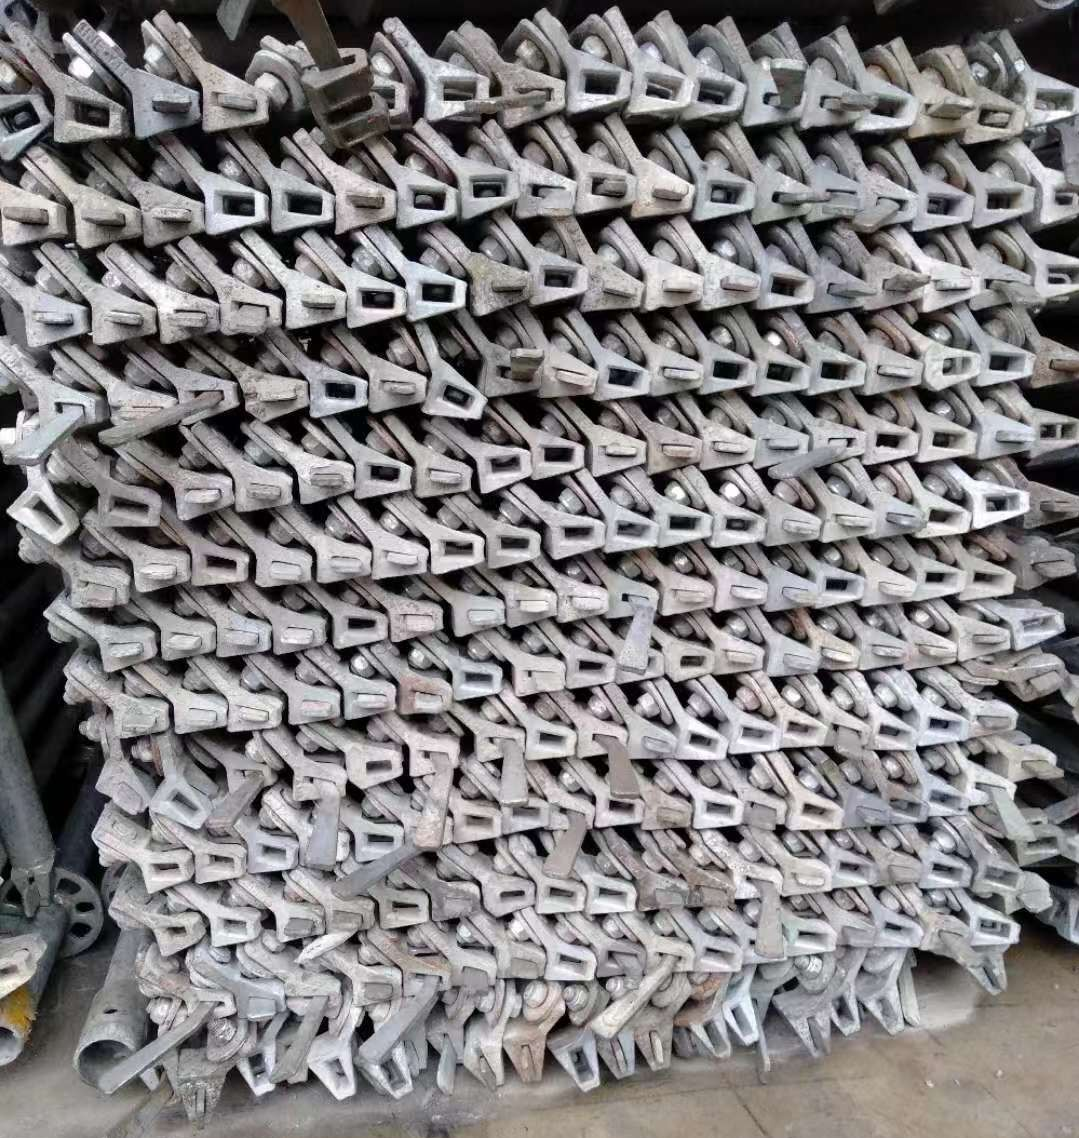circle_steel: (71, 1030, 139, 1092)
sigma_steel: (48, 85, 125, 148), (419, 61, 490, 126), (6, 487, 78, 547), (629, 59, 692, 122), (202, 183, 270, 239), (393, 177, 461, 232), (563, 62, 631, 115), (271, 182, 336, 236), (857, 79, 918, 137), (147, 772, 207, 830), (974, 177, 1035, 233), (1, 93, 48, 165), (691, 169, 756, 221), (345, 277, 408, 330), (425, 370, 488, 423), (690, 65, 747, 122), (969, 482, 1032, 534), (552, 1030, 602, 1094), (458, 168, 518, 222), (407, 272, 470, 323), (471, 442, 531, 494), (914, 184, 974, 235), (529, 256, 590, 306), (95, 483, 162, 528), (708, 500, 765, 554), (307, 1042, 358, 1101), (545, 512, 605, 561), (1024, 408, 1079, 461), (427, 528, 486, 578), (1024, 76, 1079, 129), (921, 341, 978, 392), (917, 420, 977, 468), (483, 521, 543, 569), (308, 372, 369, 419), (757, 264, 814, 312), (527, 434, 585, 483), (1028, 250, 1079, 304), (653, 501, 711, 549), (599, 354, 652, 406), (700, 348, 756, 397), (920, 492, 972, 544), (808, 350, 865, 397), (1006, 608, 1065, 652), (604, 508, 660, 555), (979, 342, 1035, 387), (332, 604, 388, 650), (686, 1008, 733, 1062), (353, 452, 410, 497), (860, 979, 905, 1036), (368, 1047, 414, 1100), (190, 547, 249, 587), (346, 746, 403, 789), (864, 423, 920, 466), (724, 991, 767, 1047), (236, 1041, 279, 1096), (756, 354, 808, 399), (142, 849, 195, 894), (192, 844, 250, 883), (783, 796, 845, 833), (247, 833, 299, 876), (1013, 828, 1065, 871), (968, 908, 1021, 950), (562, 651, 617, 692), (153, 914, 205, 956), (1039, 171, 1079, 226), (352, 825, 408, 863), (370, 75, 411, 127), (963, 561, 1015, 601), (479, 877, 534, 915), (541, 947, 597, 984), (919, 854, 972, 893), (915, 707, 968, 744), (677, 725, 729, 764), (668, 639, 715, 682), (813, 568, 864, 607), (914, 564, 964, 602), (210, 909, 261, 947), (695, 937, 746, 975), (597, 792, 645, 833), (526, 722, 579, 759), (825, 986, 862, 1039), (863, 715, 915, 752), (828, 852, 876, 891), (778, 713, 828, 751), (728, 718, 779, 755), (538, 878, 585, 918), (455, 807, 503, 846), (584, 878, 636, 914), (695, 794, 743, 832), (382, 891, 431, 928), (883, 785, 928, 826), (786, 921, 835, 957), (926, 780, 970, 820), (972, 857, 1021, 893), (872, 915, 922, 950), (452, 664, 504, 698), (503, 797, 548, 836)
sigma_steel_blocked: (125, 76, 200, 142), (196, 71, 268, 139), (498, 72, 569, 134), (742, 69, 806, 128), (69, 198, 140, 250), (1, 192, 65, 247), (643, 259, 705, 314), (479, 347, 542, 402), (364, 366, 427, 420), (242, 371, 310, 421), (21, 298, 90, 347), (807, 73, 862, 133), (143, 193, 204, 246), (91, 298, 158, 347), (281, 286, 348, 335), (464, 269, 533, 315), (157, 291, 219, 343), (868, 257, 924, 312), (635, 168, 693, 222), (169, 472, 231, 521), (293, 459, 355, 509), (177, 377, 241, 425), (336, 180, 395, 230), (175, 1065, 225, 1126), (99, 627, 161, 675), (38, 390, 103, 436), (919, 86, 970, 144), (817, 263, 870, 318), (864, 350, 922, 401), (577, 165, 636, 215), (128, 551, 192, 596), (706, 263, 763, 313), (1018, 543, 1076, 592), (221, 291, 284, 337), (585, 269, 647, 314), (518, 170, 576, 219), (445, 594, 506, 640), (539, 355, 599, 401), (1027, 480, 1079, 532), (925, 264, 979, 314), (952, 619, 1013, 663), (784, 1002, 832, 1059), (412, 456, 474, 500), (860, 176, 914, 226), (389, 598, 445, 646), (70, 565, 131, 609), (97, 766, 149, 816), (969, 94, 1022, 144), (271, 611, 328, 656), (700, 429, 757, 475), (764, 505, 821, 550), (371, 536, 429, 580), (811, 171, 861, 223), (1011, 657, 1069, 701), (233, 472, 291, 515), (976, 265, 1029, 311), (107, 705, 172, 743), (590, 432, 646, 477), (139, 1050, 183, 1107), (762, 171, 811, 221), (870, 498, 922, 546), (505, 1027, 547, 1086), (288, 976, 343, 1020), (754, 429, 811, 472), (463, 1034, 505, 1091), (636, 870, 692, 913), (855, 629, 908, 673), (160, 622, 218, 662), (213, 620, 275, 657), (506, 584, 558, 629), (256, 549, 315, 587), (977, 419, 1033, 459), (296, 759, 349, 802), (1031, 342, 1079, 389), (908, 628, 957, 673), (646, 434, 702, 475), (472, 723, 528, 763), (410, 737, 463, 779), (658, 575, 714, 615), (315, 546, 368, 587), (289, 689, 343, 729), (863, 571, 917, 612), (811, 422, 865, 463), (170, 699, 228, 736), (513, 656, 568, 696), (820, 504, 875, 544), (710, 636, 763, 677), (765, 572, 817, 613), (346, 683, 400, 722), (715, 572, 767, 613), (225, 698, 284, 733), (767, 637, 819, 677), (271, 905, 328, 941), (496, 943, 546, 985), (617, 647, 665, 689), (641, 794, 695, 832), (639, 1020, 678, 1071), (431, 882, 482, 922), (225, 759, 277, 797), (969, 950, 1011, 998), (781, 854, 829, 896), (843, 790, 890, 832), (561, 584, 608, 626), (627, 727, 682, 763), (597, 941, 648, 980), (688, 872, 738, 911), (402, 675, 452, 714), (927, 912, 969, 957), (657, 354, 703, 397), (450, 951, 500, 990), (1006, 744, 1056, 783), (325, 898, 376, 934), (968, 701, 1017, 739), (599, 1028, 636, 1079), (610, 578, 657, 618), (872, 849, 920, 887), (828, 712, 874, 751), (579, 721, 628, 758), (404, 962, 450, 999), (738, 862, 785, 900), (234, 990, 286, 1023), (356, 971, 405, 1006), (183, 991, 235, 1023), (546, 799, 596, 833), (742, 792, 785, 832), (814, 635, 860, 671), (427, 1020, 464, 1064), (969, 775, 1018, 808), (647, 940, 692, 975), (834, 916, 872, 952)
